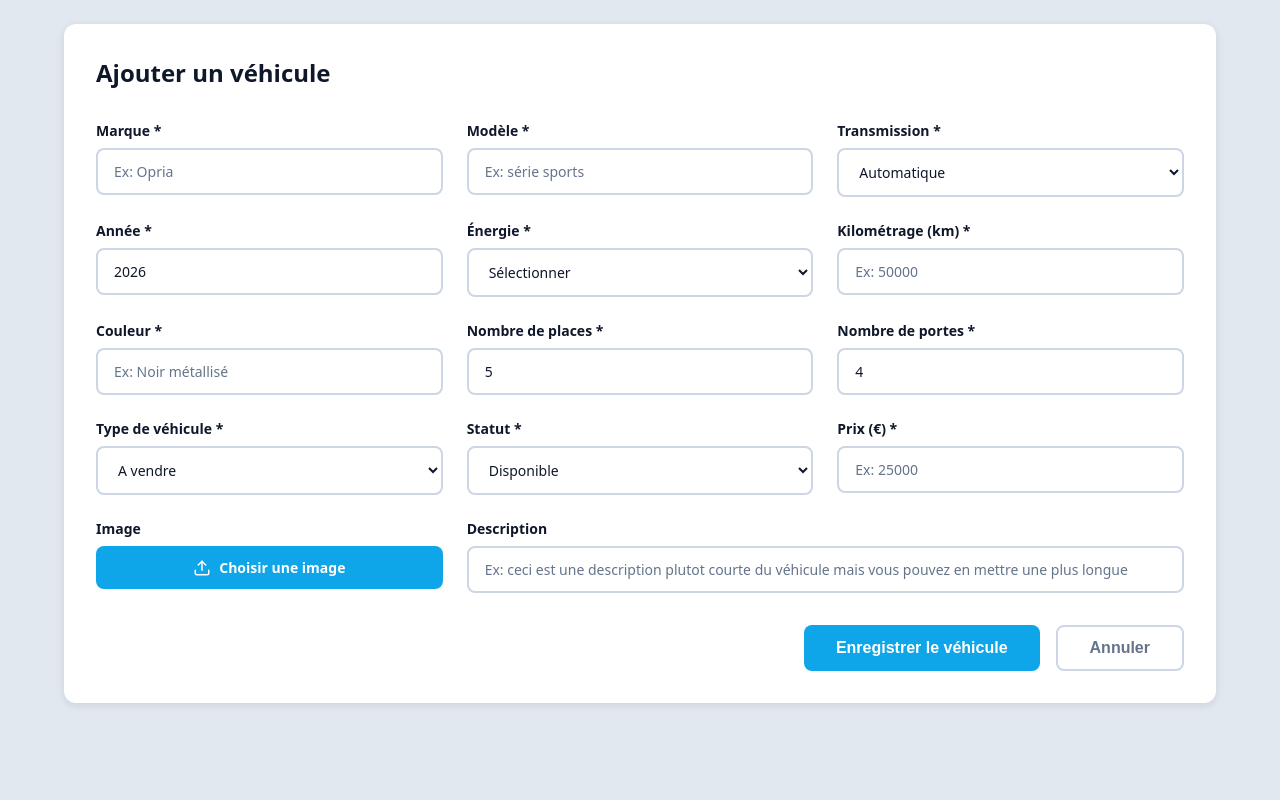
FormCreateVehicle › change label price for rental
expect the text "Prix (€) *" does not show "mois": met, box [837,419,897,438]
Select "Location LLD" in the dropdown labelled "Type de véhicule *" at (269, 470), box [96,446,443,495]
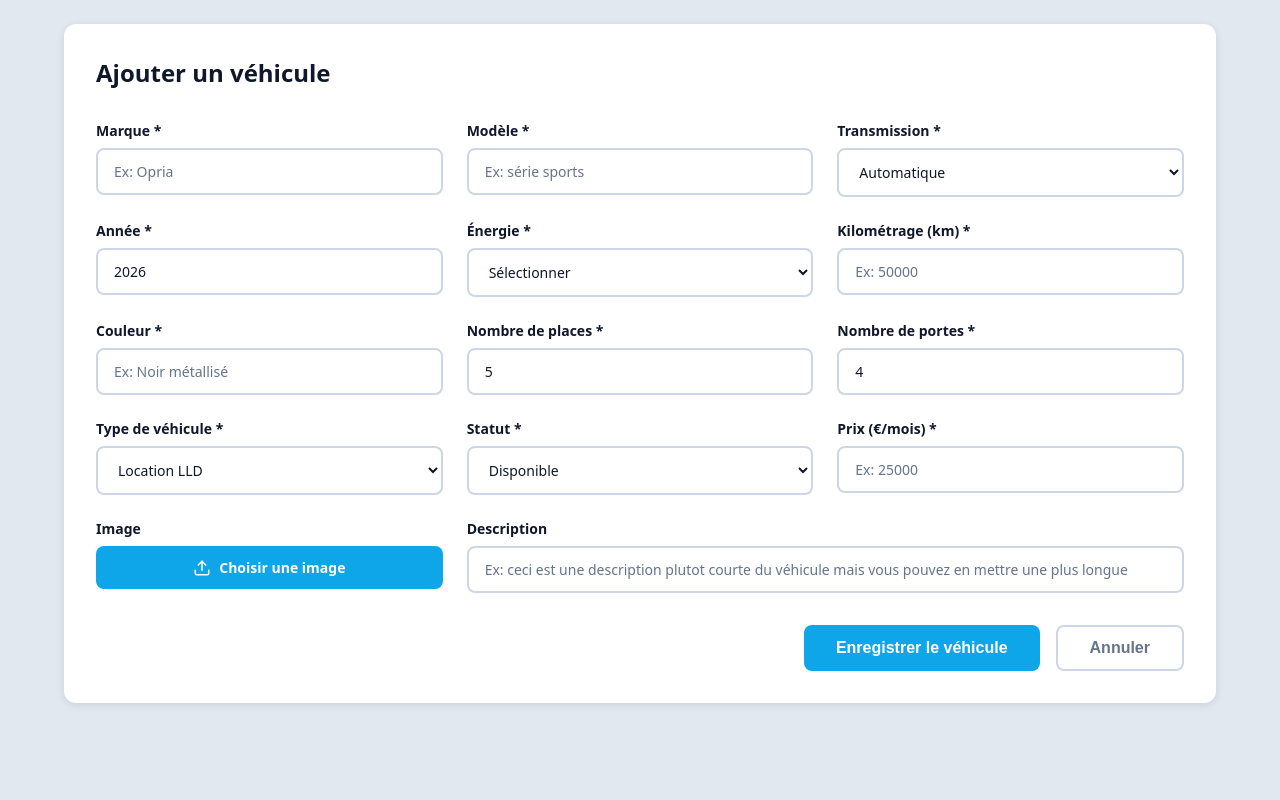
expect the text "Prix (€/mois) *" is shown: met, box [837,419,937,438]
